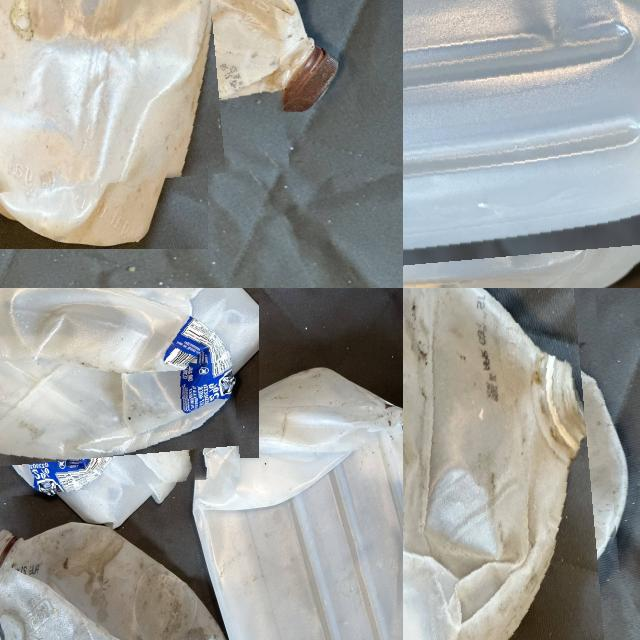milk-jug: (403, 288, 620, 640), (403, 0, 640, 288), (192, 369, 403, 640), (0, 0, 280, 193), (0, 288, 234, 493), (0, 525, 256, 640)
